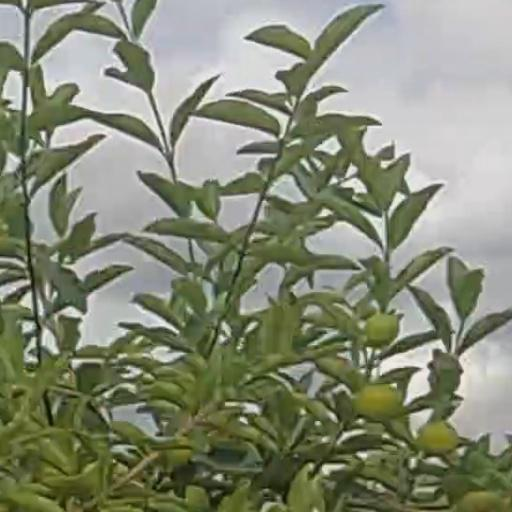acerola: (357, 388, 402, 422), (421, 423, 459, 455), (368, 314, 398, 344)
